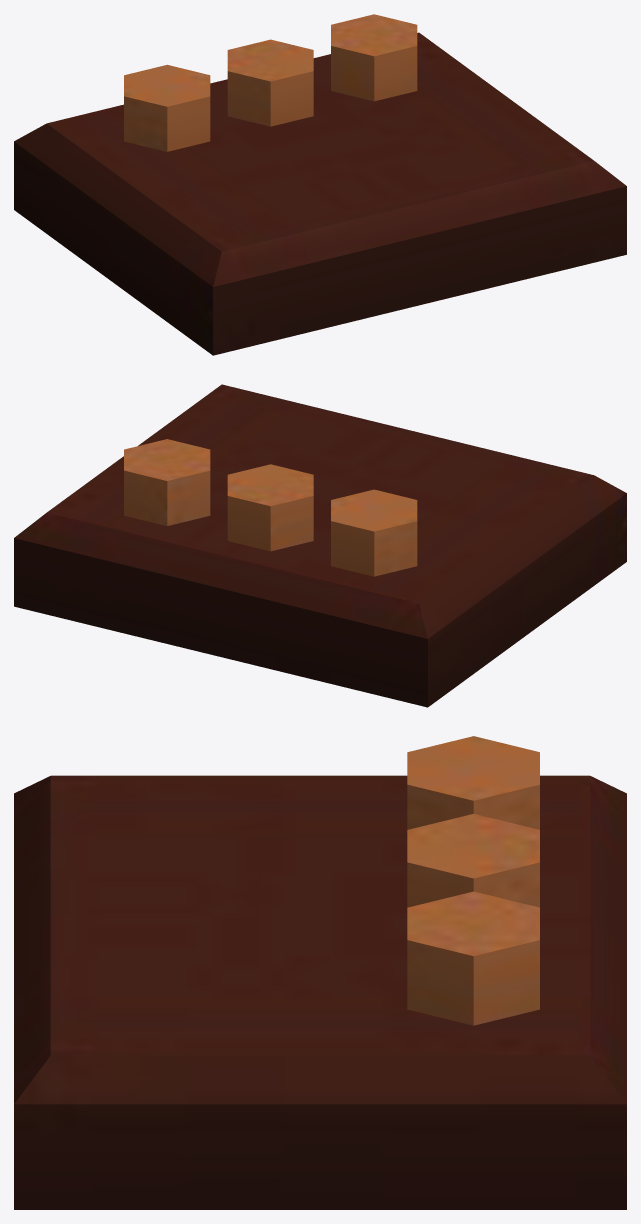
Rendered from productivity-module-2.glb.
3 views of the same model, one above another, from view 1: azimuth 30°, elevation 25°; view 2: azimuth 150°, elevation 25°; view 3: azimuth 270°, elevation 25° (orthographic). The views are drawn at different scales.
Visible parts, largest first — view 1: productivity-module-2; view 2: productivity-module-2; view 3: productivity-module-2.
Boxes of the visible parts, box(x1,y1,x2,y2) form: productivity-module-2: box(14, 14, 626, 355); productivity-module-2: box(14, 384, 626, 707); productivity-module-2: box(14, 736, 626, 1209).
Size of the model in its own units: 0.24 by 0.075 by 0.2.
1 material, 1 textured.
